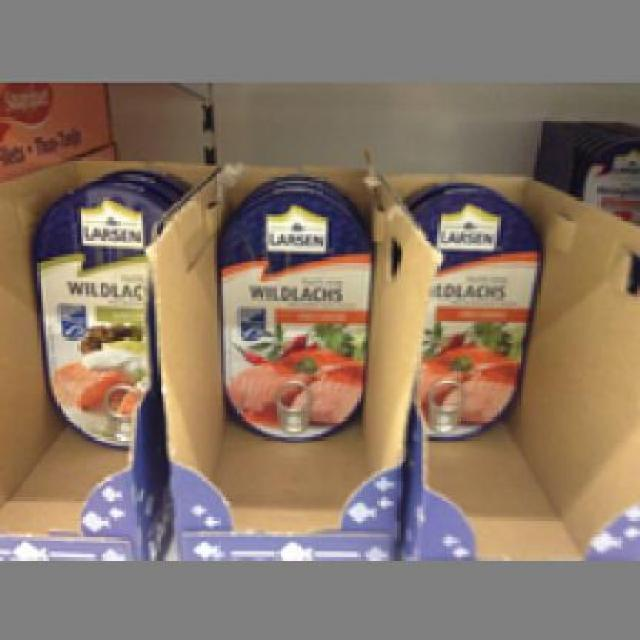Fish: (215, 186, 372, 440), (411, 185, 540, 438), (34, 177, 154, 443)
